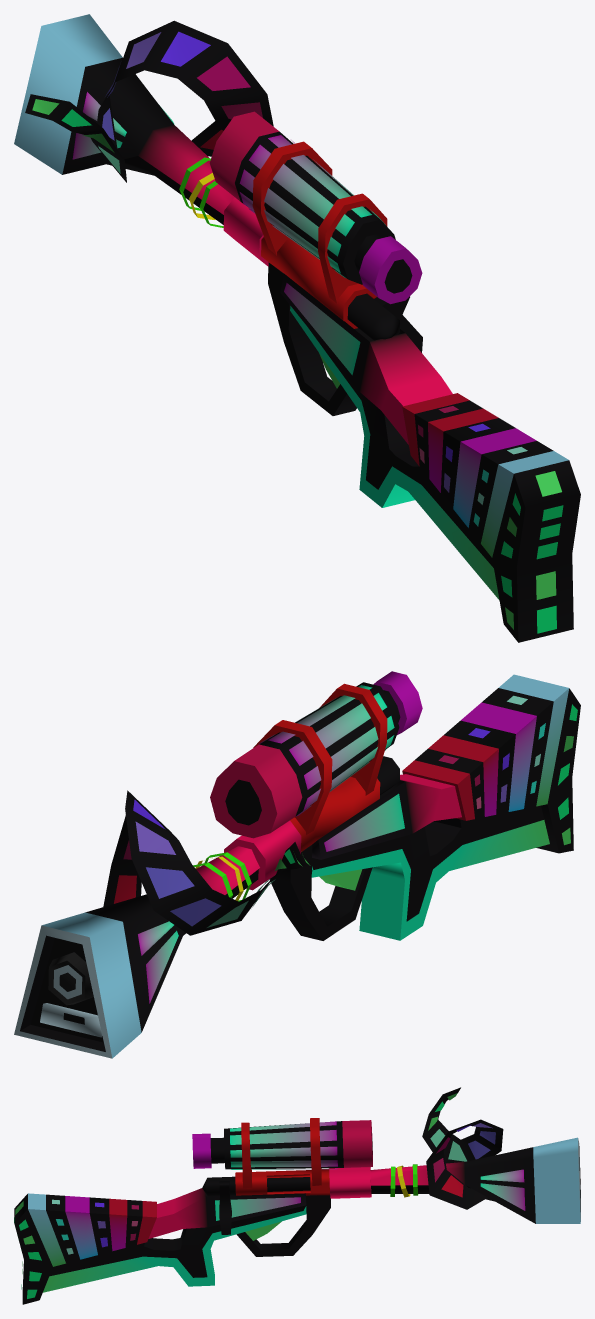
File: gun_m24.glb
The picture shows the model from 3 angles, top to bottom: view 1: azimuth 30°, elevation 25°; view 2: azimuth 150°, elevation 25°; view 3: azimuth 270°, elevation 25°; orthographic projection. The views are drawn at different scales.
Parts seen in each view (by area): view 1: gun_m24_Techno; view 2: gun_m24_Techno; view 3: gun_m24_Techno.
Boxes of the visible parts, bbox=[...] form: gun_m24_Techno: bbox=[14, 14, 580, 642]; gun_m24_Techno: bbox=[14, 671, 580, 1058]; gun_m24_Techno: bbox=[14, 1087, 580, 1304].
Bounding box in the file's own units: 0.1513 × 0.2033 × 0.5664.
